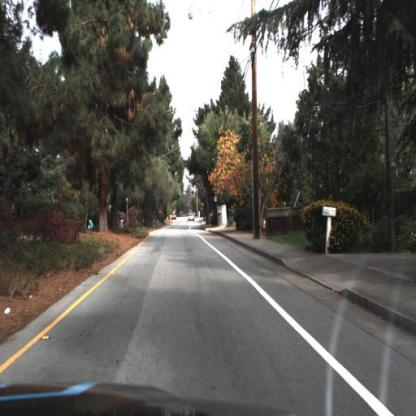car: (187, 212, 198, 224), (188, 212, 196, 225)
